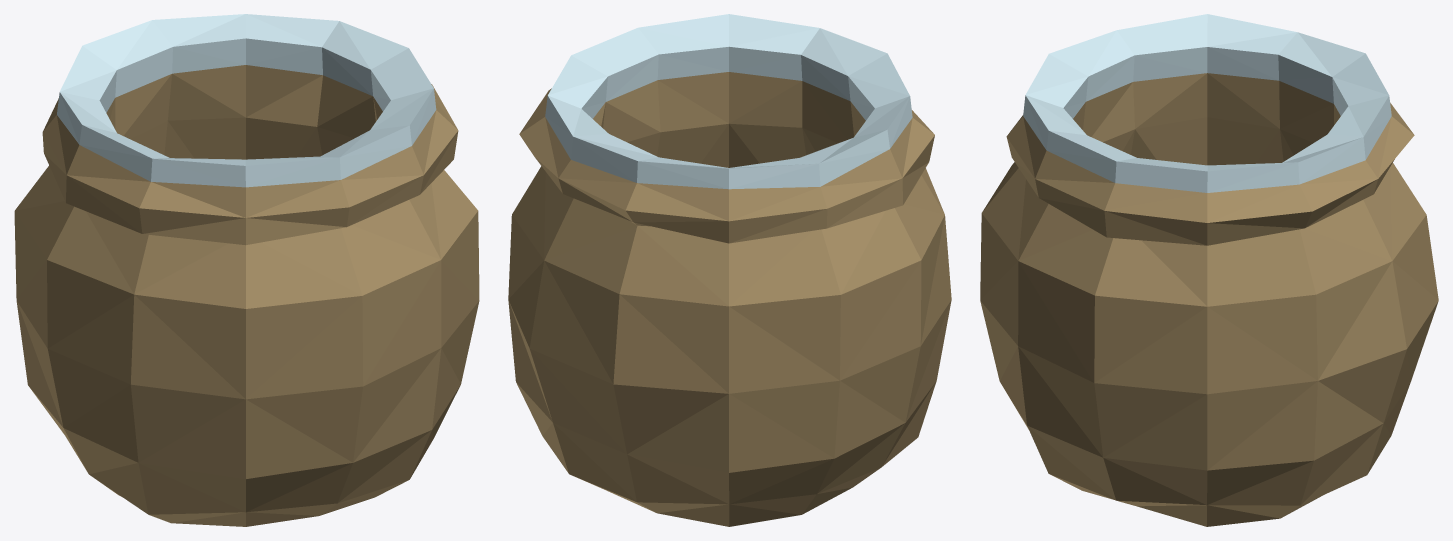
The model's file is SM_Prop_Clay_Pot_01_Snow.fbx.
3 renders of one model, left to right at view 1: azimuth 30°, elevation 25°; view 2: azimuth 150°, elevation 25°; view 3: azimuth 270°, elevation 25°, orthographic. The views are drawn at different scales.
Visible parts, largest first — view 1: SM_Prop_Clay_Pot_01_Snow; view 2: SM_Prop_Clay_Pot_01_Snow; view 3: SM_Prop_Clay_Pot_01_Snow.
Boxes of the visible parts, x1,y1,x2,y2 form: SM_Prop_Clay_Pot_01_Snow: [14, 14, 479, 526]; SM_Prop_Clay_Pot_01_Snow: [508, 14, 951, 526]; SM_Prop_Clay_Pot_01_Snow: [980, 14, 1438, 526].
Size of the model in its own units: 58.62 by 54.4 by 60.4.
